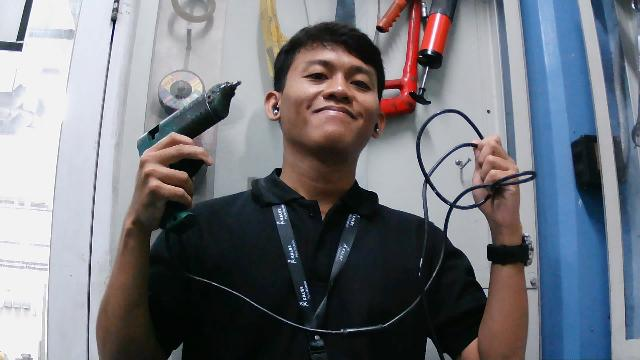gun_lem: (125, 76, 246, 246)
